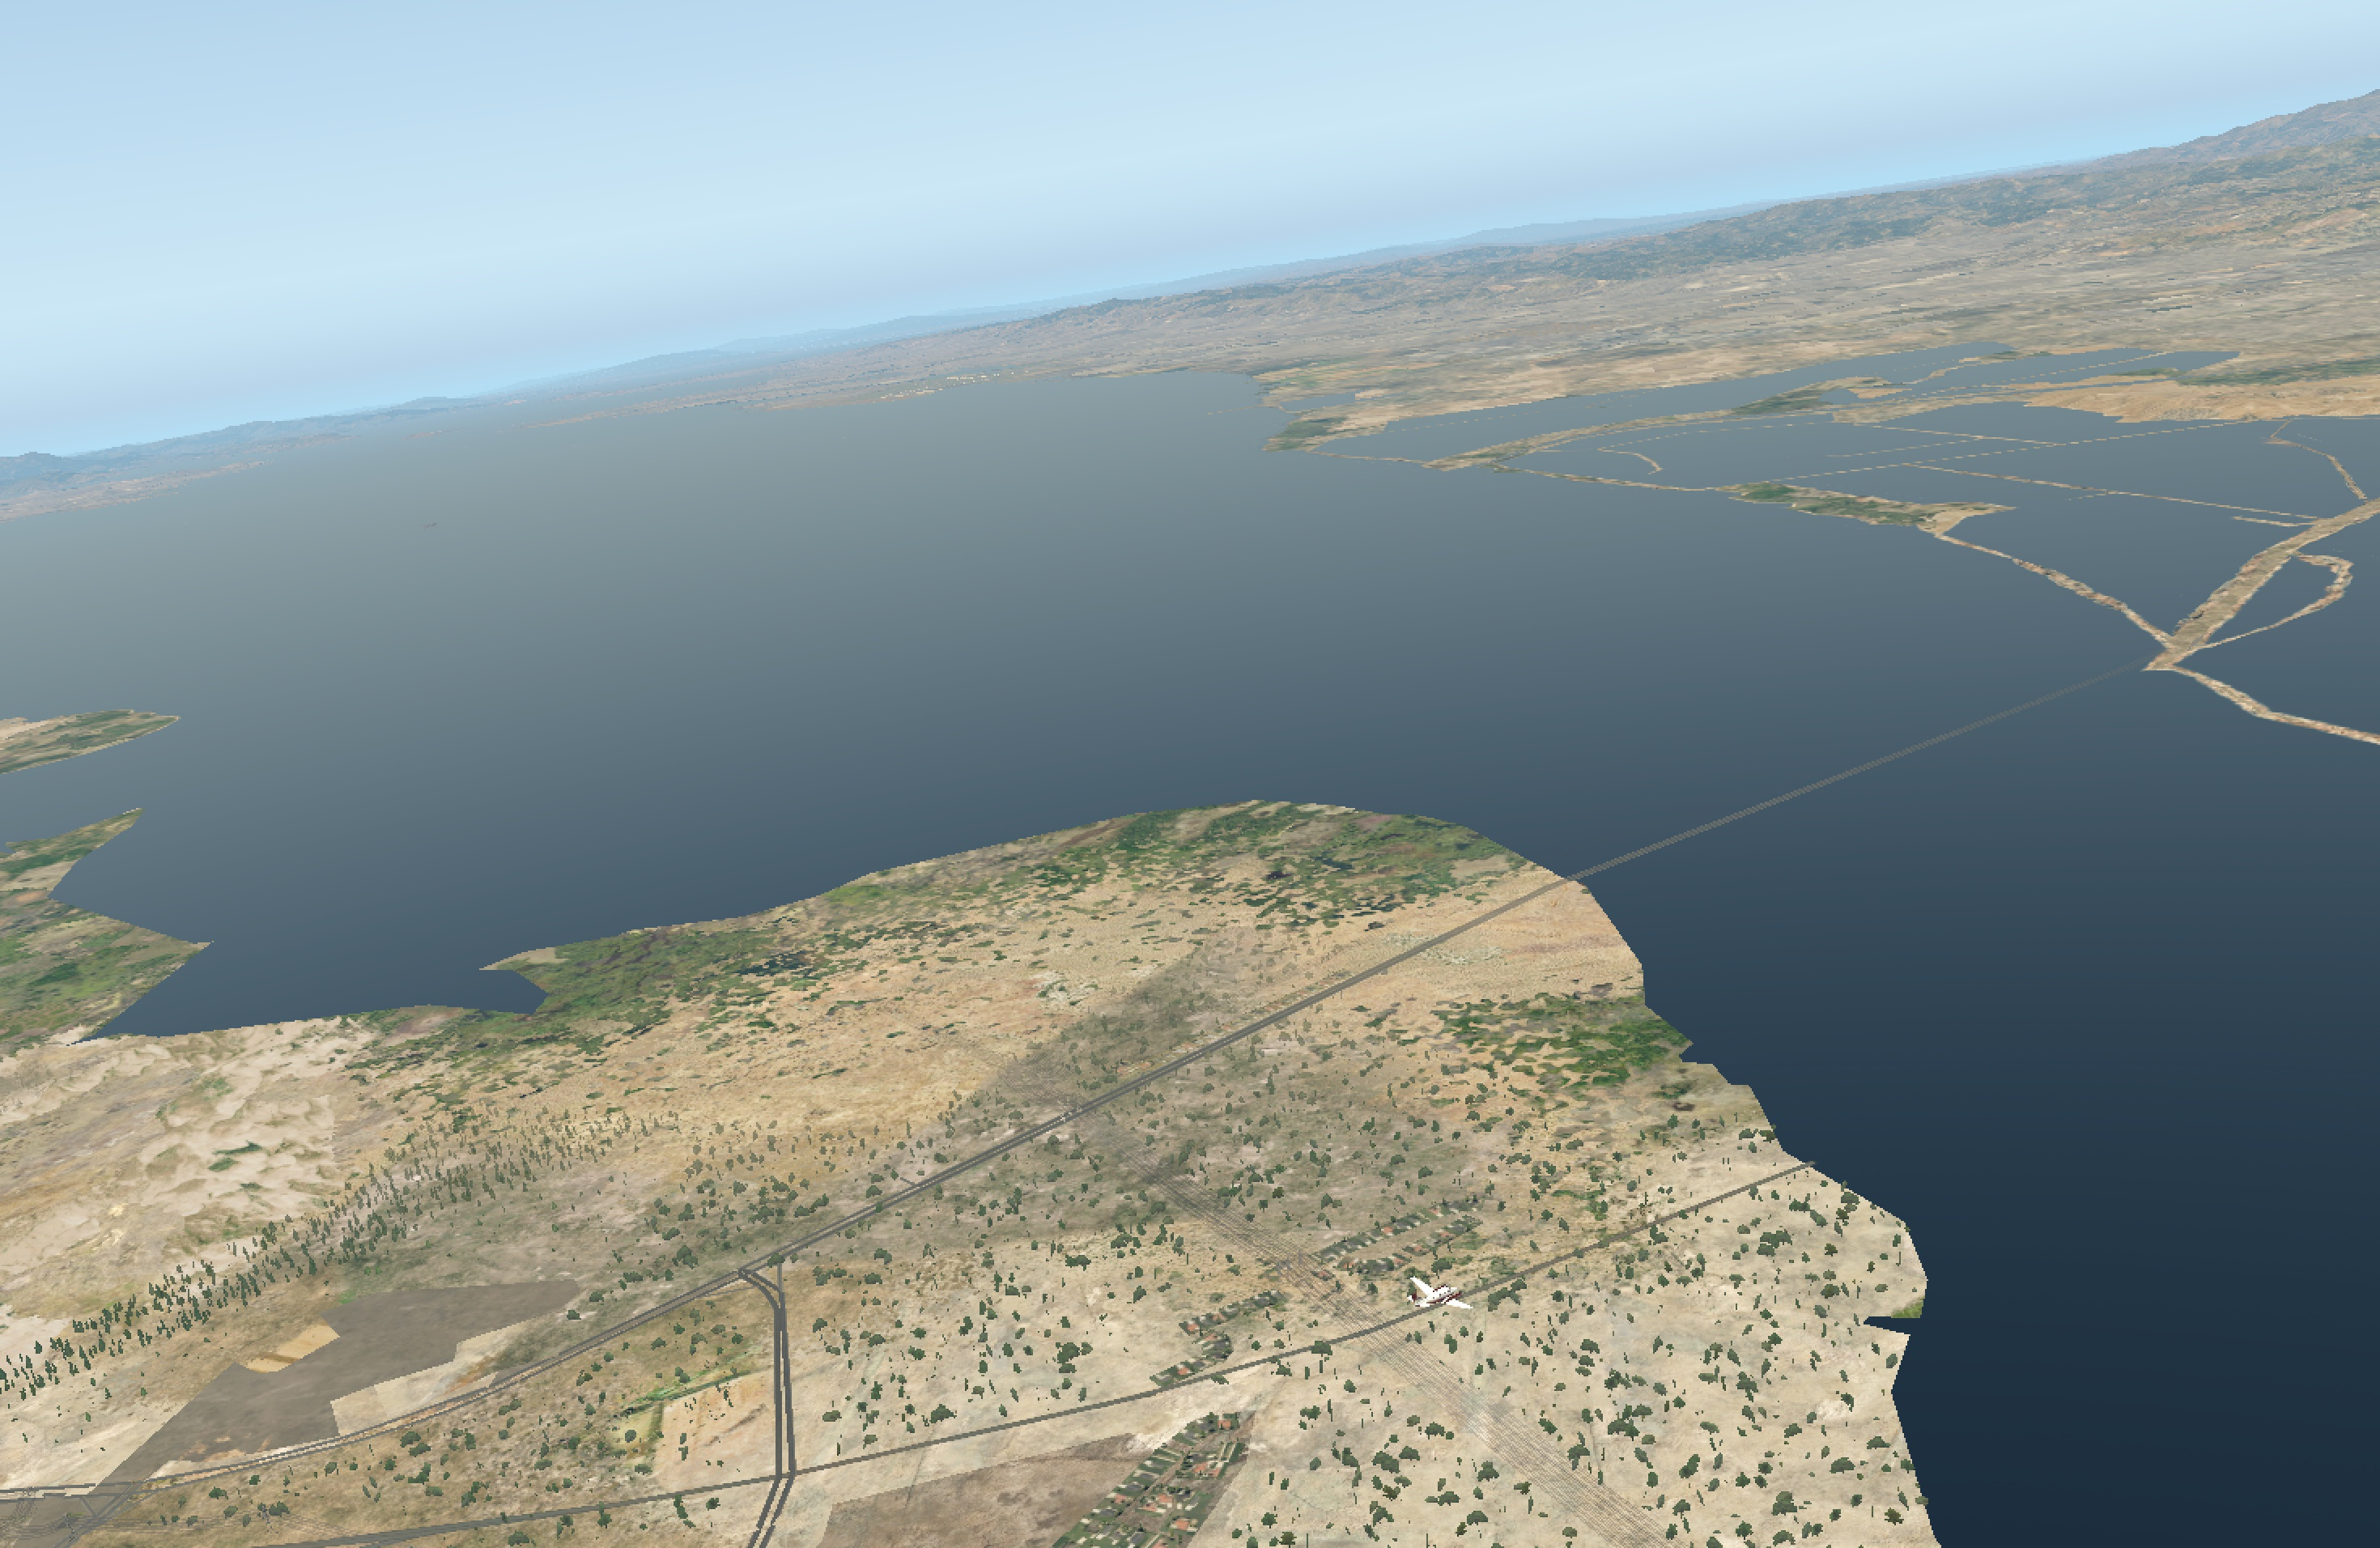aircraft: (1400, 1281, 1487, 1314)
